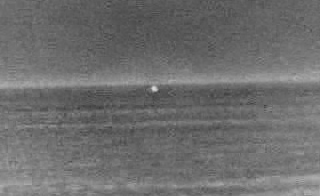dim target: (150, 85, 158, 93)
